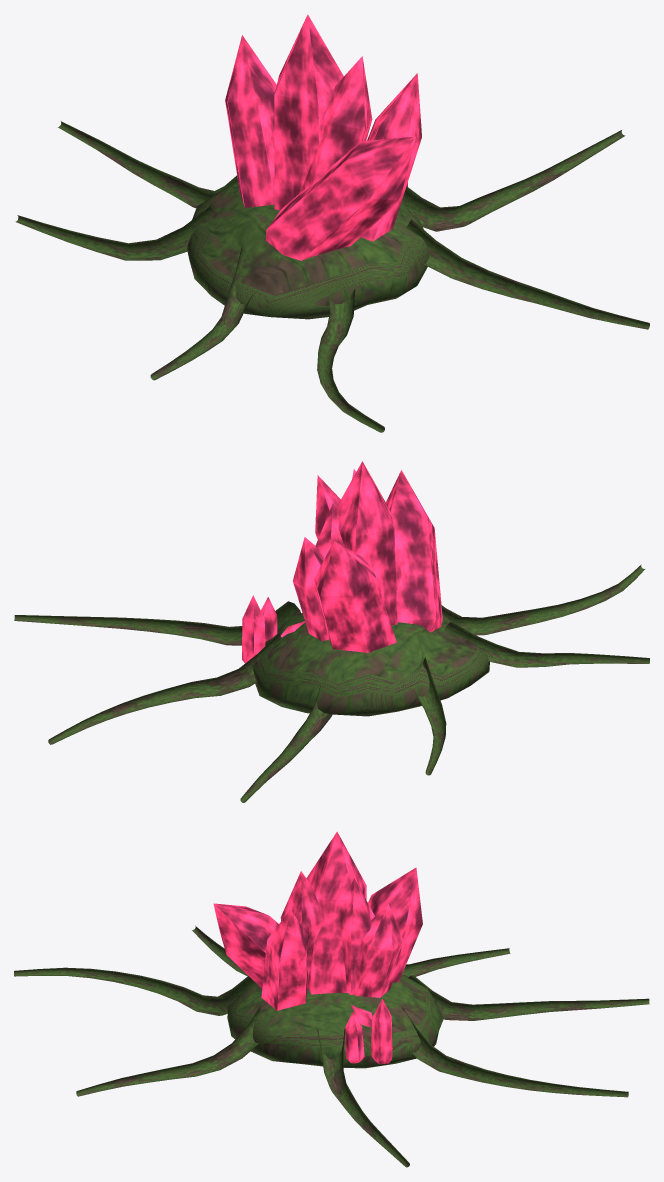
The model's file is foe_cursed_crystal_cluster.glb.
3 renders of one model, top to bottom at view 1: azimuth 30°, elevation 25°; view 2: azimuth 150°, elevation 25°; view 3: azimuth 270°, elevation 25°, orthographic. The views are drawn at different scales.
Parts seen in each view (by area): view 1: foe_cursed_crystal_cluster__bark_old, foe_cursed_crystal_cluster__crystal_cursed; view 2: foe_cursed_crystal_cluster__bark_old, foe_cursed_crystal_cluster__crystal_cursed; view 3: foe_cursed_crystal_cluster__bark_old, foe_cursed_crystal_cluster__crystal_cursed.
Boxes of the visible parts, x1,y1,x2,y2 form: foe_cursed_crystal_cluster__bark_old: (15,121,649,432); foe_cursed_crystal_cluster__crystal_cursed: (225,14,421,260); foe_cursed_crystal_cluster__bark_old: (14,564,649,802); foe_cursed_crystal_cluster__crystal_cursed: (242,461,442,663); foe_cursed_crystal_cluster__bark_old: (14,925,649,1167); foe_cursed_crystal_cluster__crystal_cursed: (213,831,422,1064).
Bounding box in the file's own units: 4.38 × 1.73 × 4.94.
Materials: 2 (2 with a texture image).
